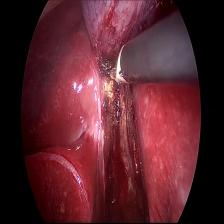Hook: (100, 40, 132, 96)
